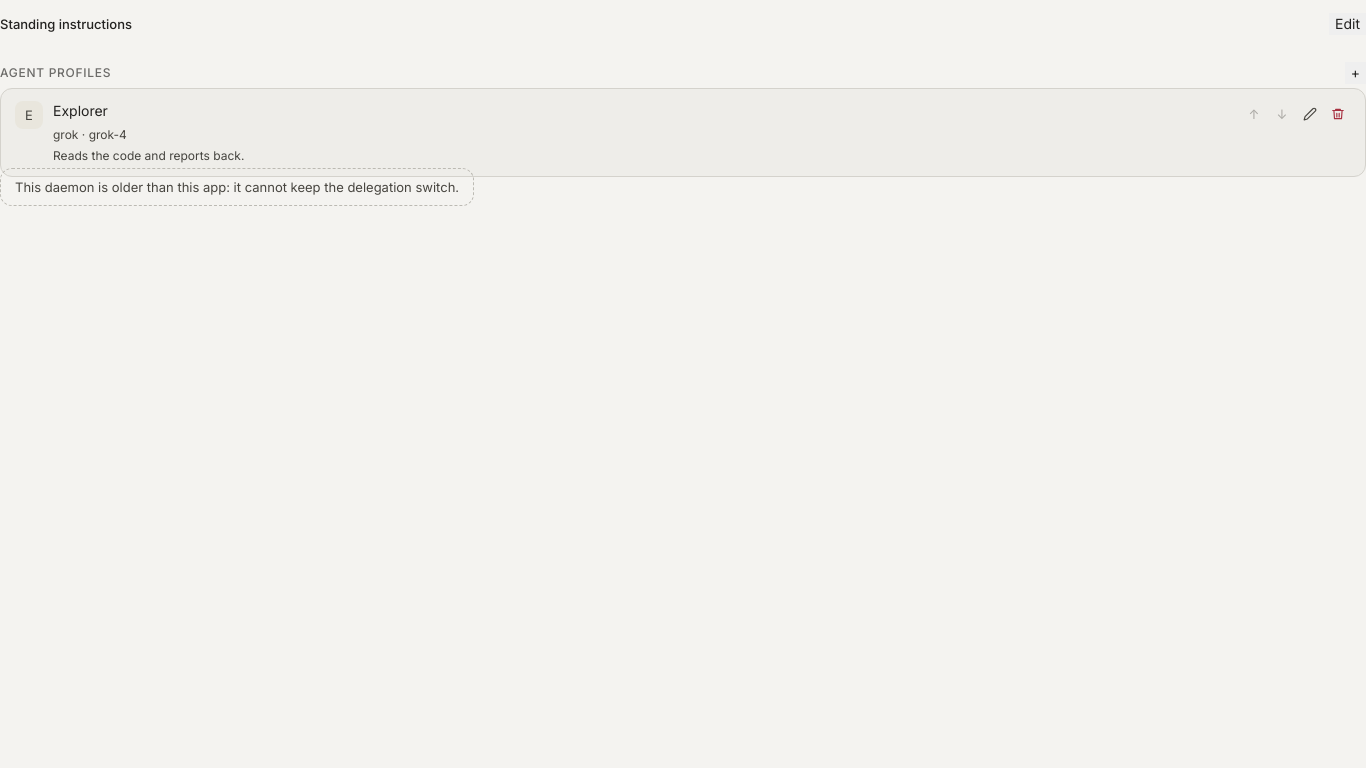
Settings agents panel — profile rows and their actions › reverts the editor tick and shows the daemon sentence on a failed write
The image size is (1366, 768).
Click the button named "Edit Explorer": (1310, 114) [1297,101,1323,127]
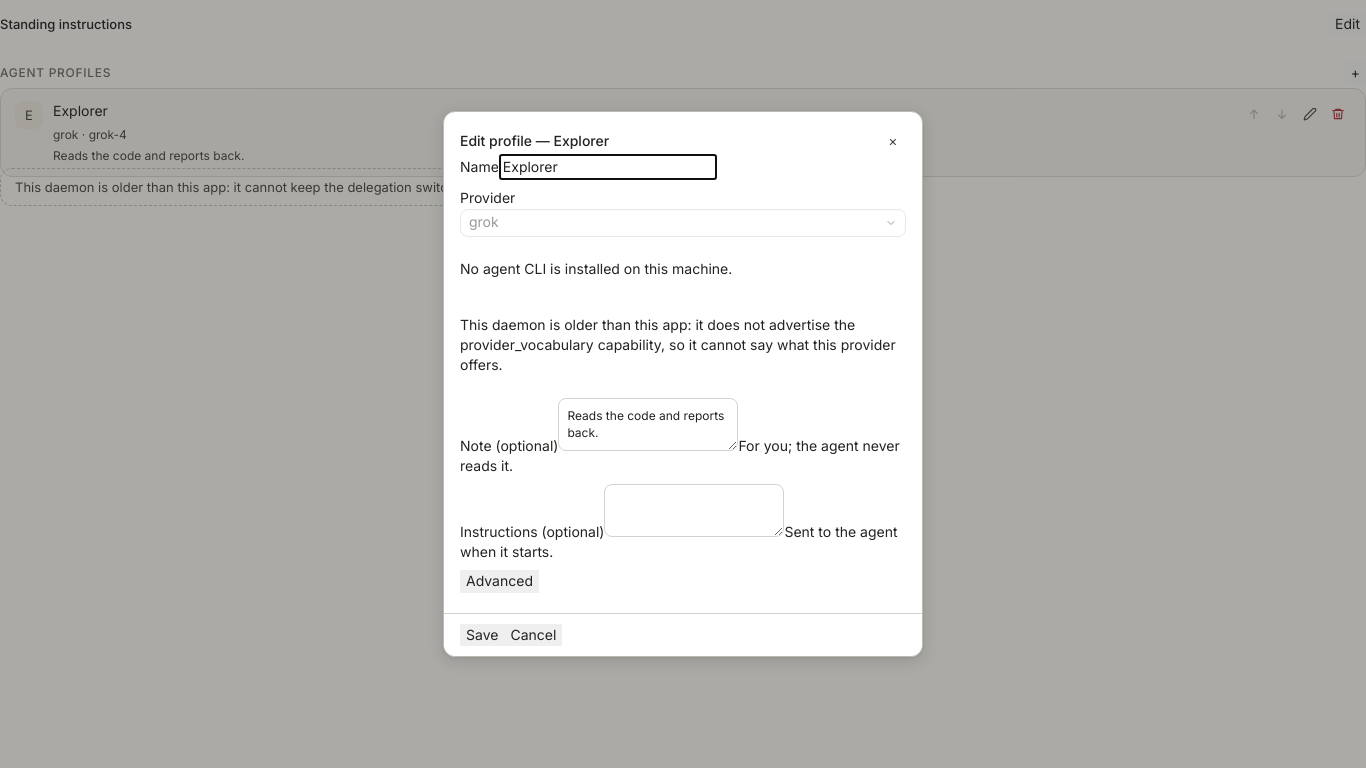
Click the button "Advanced": (500, 582) [460,570,539,593]
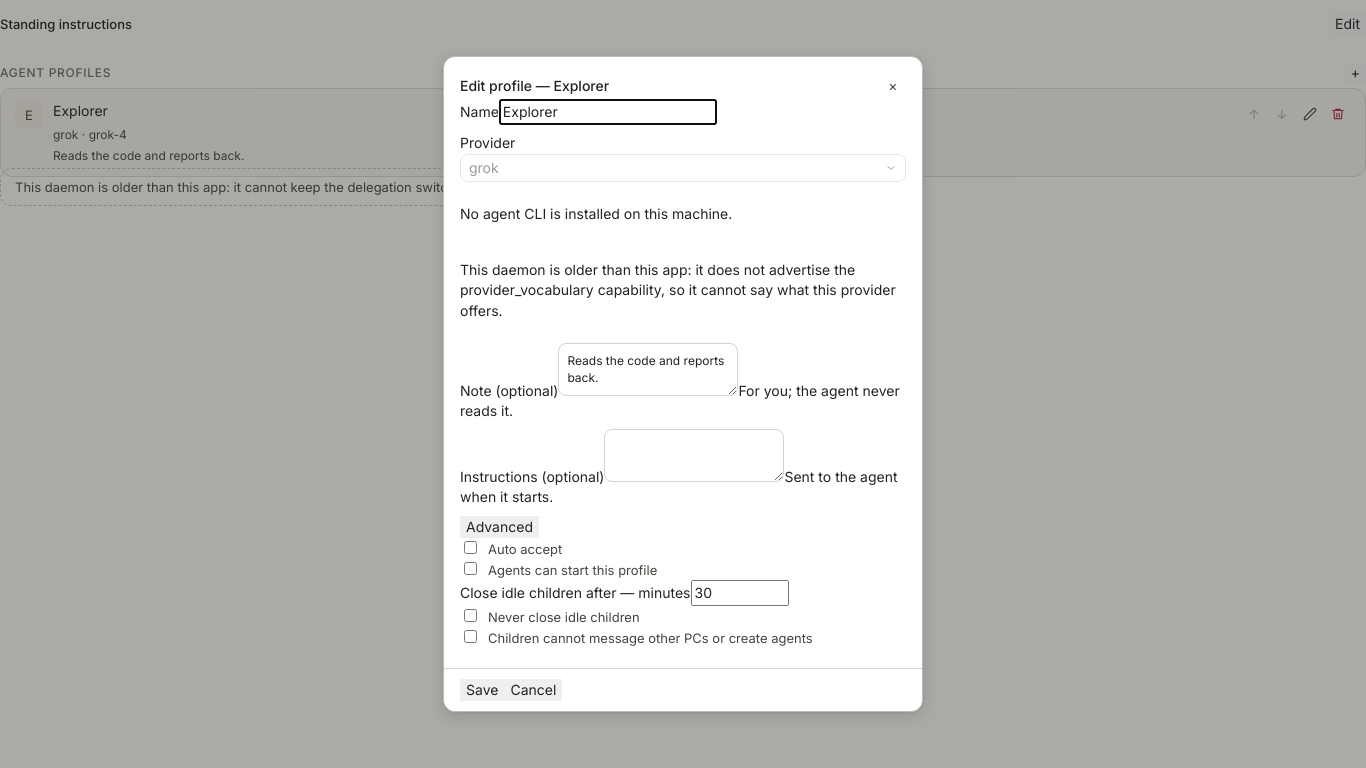
Click the checkbox named "Available to agents": (470, 568) [464,562,477,575]
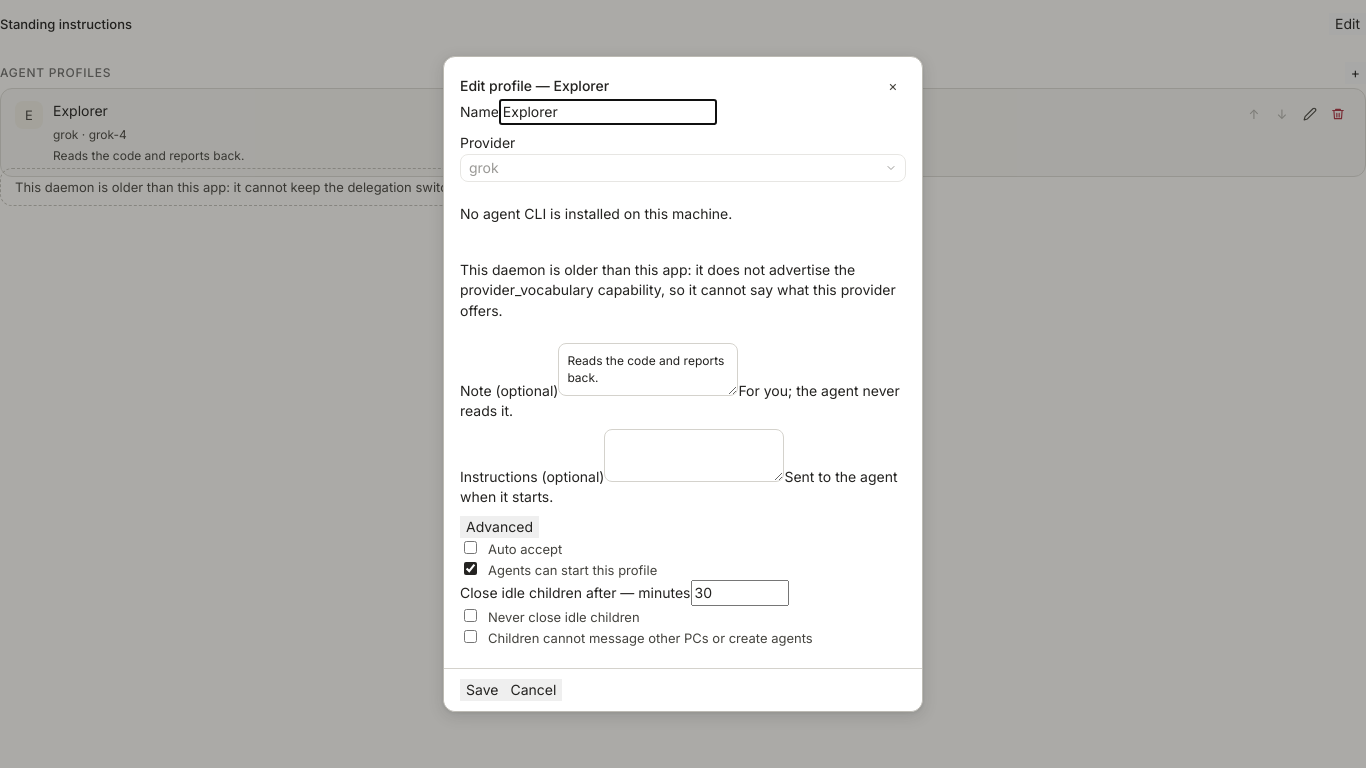
Click the button "Save": (482, 690) [460,679,504,701]
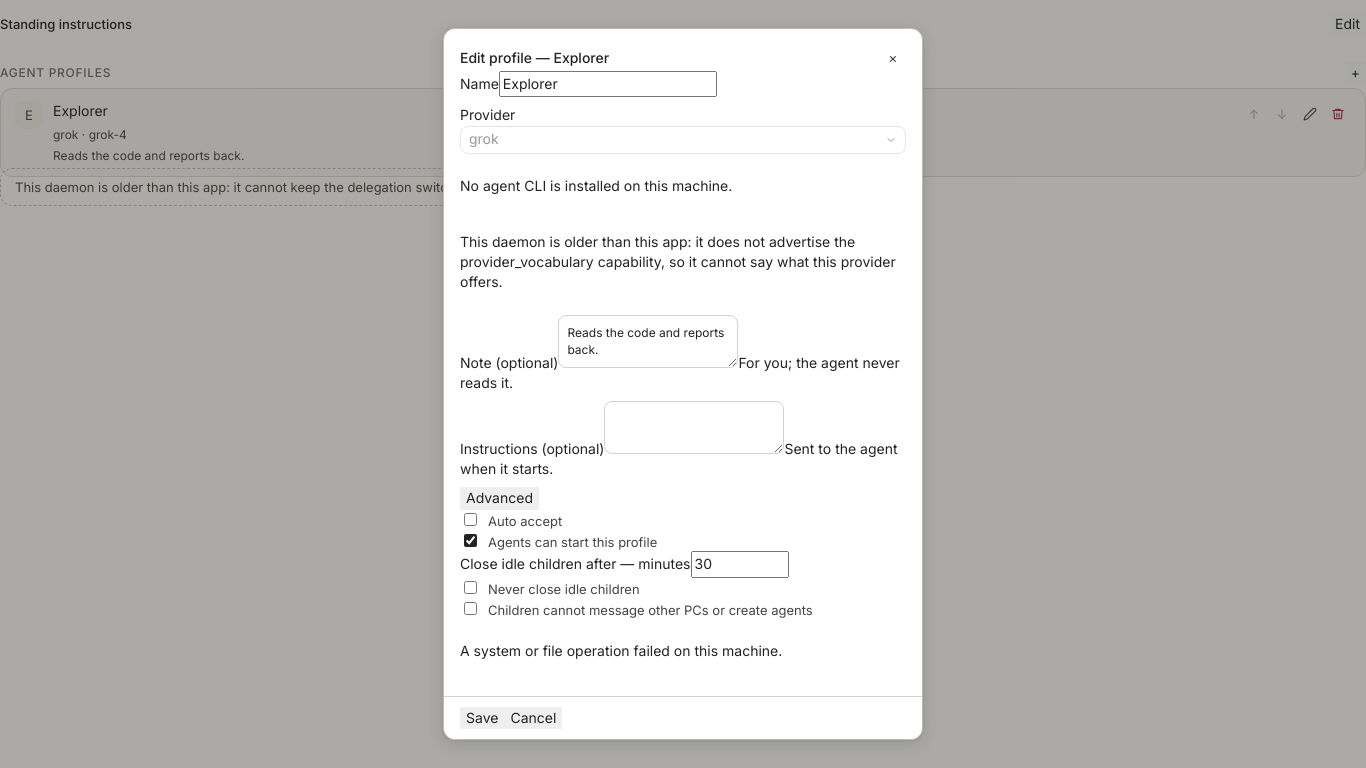
Expected: the message "A system or file operation failed on this machine." is shown, [460,642,906,662]
